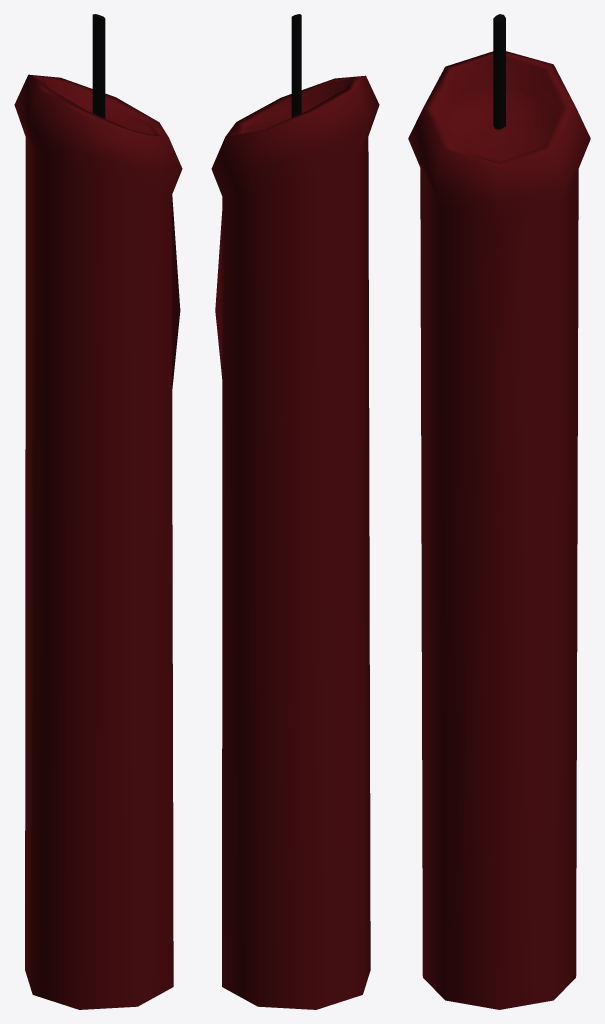
The model's file is Candle_Long.fbx.
3 views of the same model, side by side, from view 1: azimuth 30°, elevation 25°; view 2: azimuth 150°, elevation 25°; view 3: azimuth 270°, elevation 25° (orthographic).
Visible parts, largest first — view 1: pCylinder49; view 2: pCylinder49; view 3: pCylinder49.
Part boxes in pixels (x1,y1,x2,y2): pCylinder49: (14,14,182,1009); pCylinder49: (211,14,379,1009); pCylinder49: (408,14,590,1009).
Size of the model in its own units: 1.92 by 11.59 by 2.
